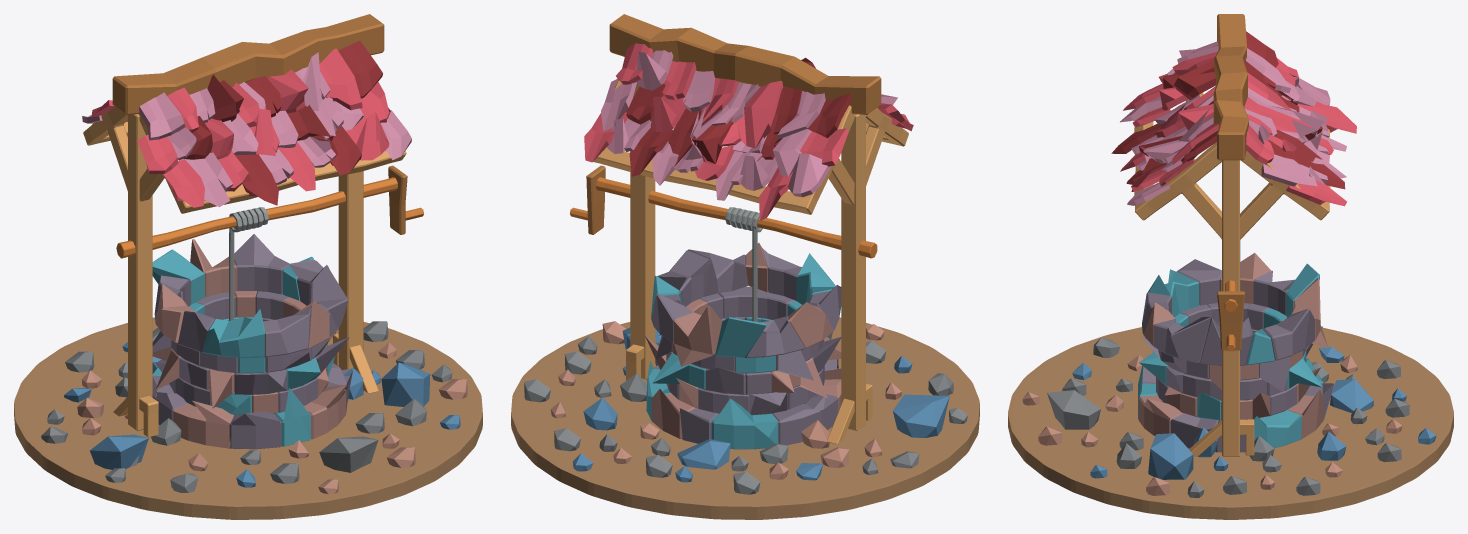
Rendered from Low Poly Well - Aadil.fbx.
3 views of the same model, side by side, from view 1: azimuth 30°, elevation 25°; view 2: azimuth 150°, elevation 25°; view 3: azimuth 270°, elevation 25° (orthographic). The views are drawn at different scales.
Visible parts, largest first — view 1: Floor, Well, Stand, Roof Tiles, Rocks, Rope; view 2: Floor, Well, Stand, Roof Tiles, Rocks, Rope; view 3: Floor, Well, Roof Tiles, Stand, Rocks.
Part boxes in pixels (left/top/right/bottom): Floor: left=14, top=317, right=482, bottom=519; Well: left=152, top=234, right=352, bottom=449; Stand: left=83, top=14, right=423, bottom=437; Roof Tiles: left=82, top=40, right=411, bottom=207; Rocks: left=41, top=321, right=467, bottom=494; Rope: left=229, top=207, right=268, bottom=320; Floor: left=511, top=317, right=979, bottom=519; Well: left=645, top=243, right=841, bottom=449; Stand: left=570, top=14, right=908, bottom=443; Roof Tiles: left=584, top=43, right=913, bottom=220; Rocks: left=524, top=321, right=967, bottom=494; Rope: left=725, top=207, right=762, bottom=321; Floor: left=1008, top=327, right=1453, bottom=519; Well: left=1138, top=253, right=1334, bottom=452; Roof Tiles: left=1111, top=31, right=1356, bottom=206; Stand: left=1134, top=14, right=1330, bottom=456; Rocks: left=1022, top=337, right=1436, bottom=497.
Size of the model in its own units: 3195 by 3071 by 3195.
